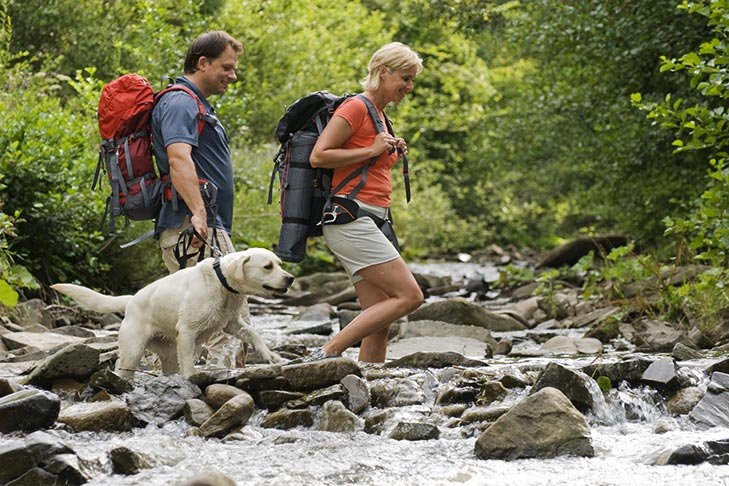dog: (42, 245, 306, 388)
